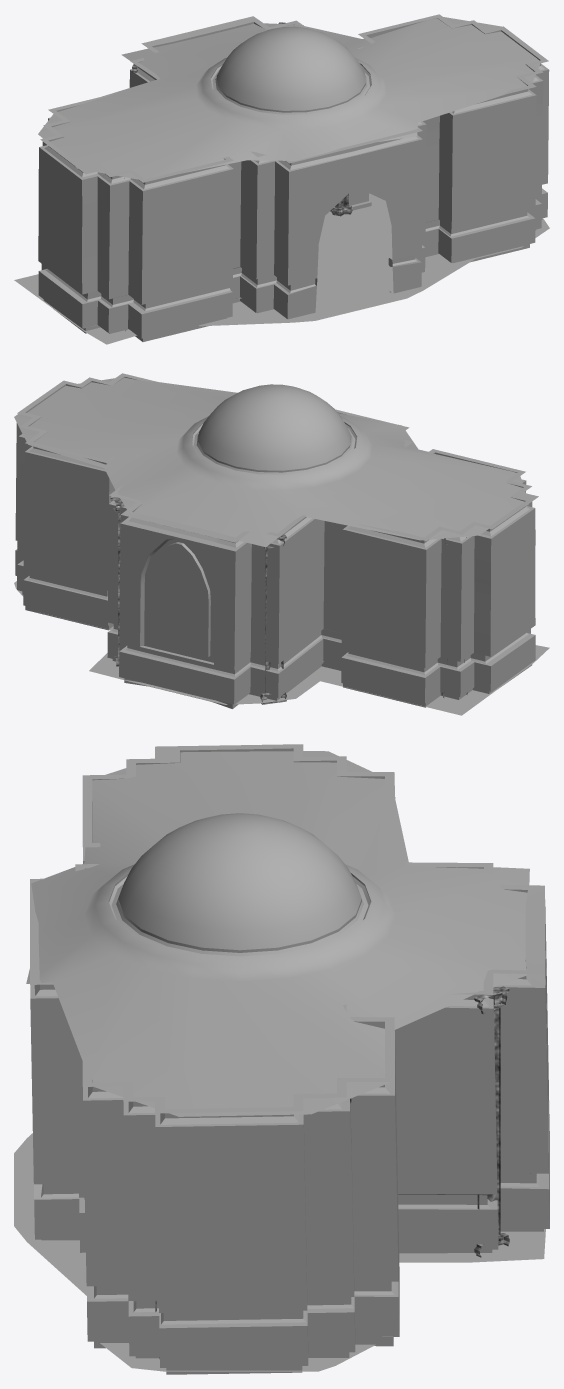
File: Mausoleum_Interior.fbx
3 renders of one model, top to bottom at view 1: azimuth 30°, elevation 25°; view 2: azimuth 150°, elevation 25°; view 3: azimuth 270°, elevation 25°, orthographic. The views are drawn at different scales.
Parts seen in each view (by area): view 1: int1, roof, floor, dome; view 2: int1, roof, dome, floor, polySurface17, polySurface11; view 3: int1, roof, dome, floor, polySurface11.
Part boxes in pixels (left/top/right/bottom): int1: left=38, top=14, right=549, bottom=341; roof: left=38, top=17, right=539, bottom=179; floor: left=14, top=193, right=549, bottom=344; dome: left=216, top=26, right=365, bottom=110; int1: left=15, top=373, right=538, bottom=708; roof: left=14, top=377, right=528, bottom=547; dome: left=198, top=384, right=351, bottom=470; floor: left=14, top=581, right=549, bottom=715; polySurface17: left=260, top=534, right=286, bottom=704; polySurface11: left=110, top=493, right=124, bottom=666; int1: left=30, top=744, right=549, bottom=1374; roof: left=26, top=751, right=529, bottom=1116; dome: left=118, top=813, right=361, bottom=950; floor: left=14, top=1133, right=545, bottom=1371; polySurface11: left=474, top=986, right=509, bottom=1257.
Bounding box in the file's own units: 2394 × 1122 × 1474.
